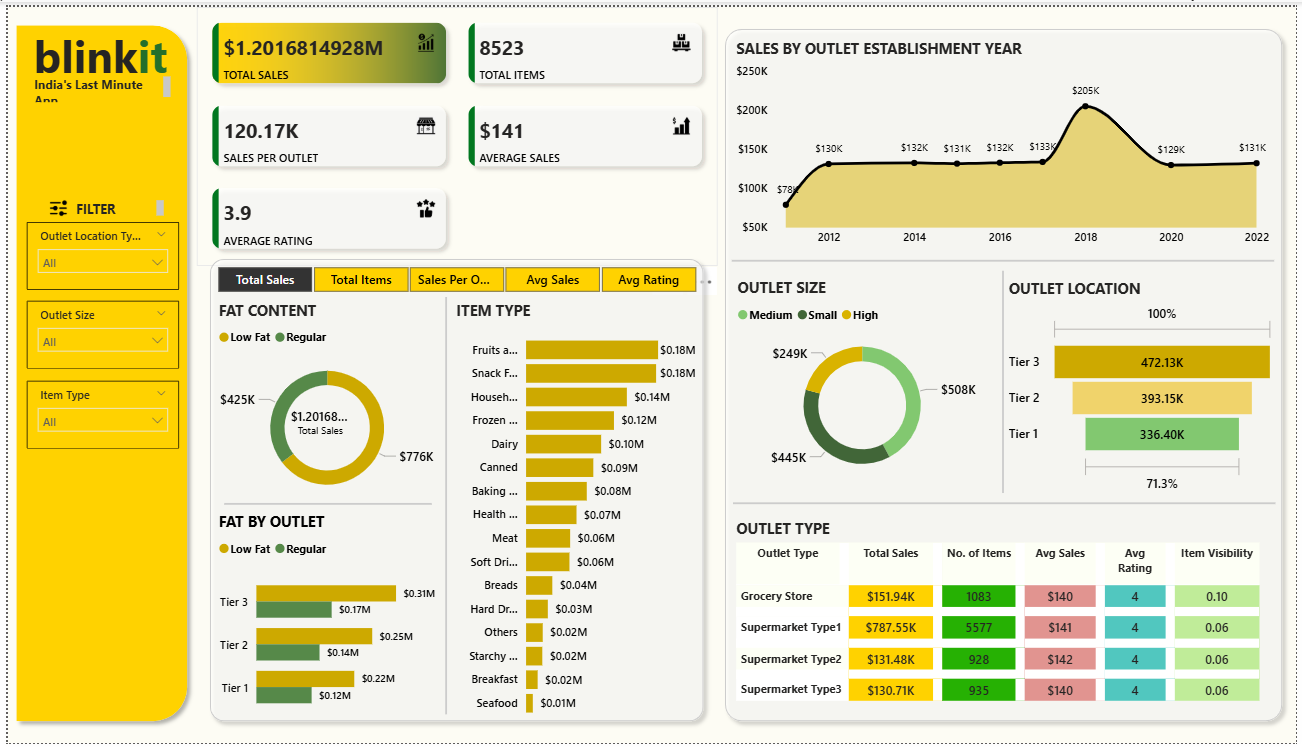

This screenshot's page, from the dashboard's own definition file:
{"tool":"powerbi","page":{"name":"DASHBOARD","canvas":[1400,800],"ordinal":0},"visuals":[{"type":"shape","box":[0,10.9,203.8,774.5],"z":0},{"type":"textbox","box":[23.1,14.9,180.7,85.6],"z":1000},{"type":"textbox","box":[23.1,70.7,159,38],"z":2000},{"type":"cardVisual","fields":{"Data":["BlinkIT Grocery Data.Total Sales","BlinkIT Grocery Data.No. of Items","BlinkIT Grocery Data.Sales per Outlet","BlinkIT Grocery Data.Avg Sales","BlinkIT Grocery Data.Avg Rating"]},"box":[205.2,0,566.6,281.3],"z":3000},{"type":"shape","box":[210.6,264.9,554.4,520.4],"z":4000},{"type":"shape","box":[770.4,14.9,623.6,770.4],"z":5000},{"type":"pieChart","title":"FAT CONTENT","fields":{"Y":["BlinkIT Grocery Data.Total Sales"],"Category":["BlinkIT Grocery Data.Item Fat Content"]},"box":[224.2,317.9,245.9,229.6],"z":6000},{"type":"slicer","fields":{"Values":["Metrics.Metrics"]},"box":[202.4,275.8,569.3,39.4],"z":7000},{"type":"cardVisual","fields":{"Data":["BlinkIT Grocery Data.Total Sales"]},"box":[289.4,418.5,100.5,54.3],"z":8000},{"type":"clusteredBarChart","title":"FAT BY OUTLET","fields":{"Y":["BlinkIT Grocery Data.Total Sales"],"Category":["BlinkIT Grocery Data.Outlet Location Type"],"Series":["BlinkIT Grocery Data.Item Fat Content"]},"box":[224.2,547.6,245.9,235.1],"z":9000},{"type":"shape","box":[235.1,525.8,225.5,28.5],"z":10000},{"type":"shape","box":[470.1,315.2,12.2,453.8],"z":11000},{"type":"barChart","title":"ITEM TYPE","fields":{"Y":["BlinkIT Grocery Data.Total Sales"],"Category":["BlinkIT Grocery Data.Item Type"]},"box":[482.3,317.9,270.4,464.7],"z":12000},{"type":"lineChart","title":"SALES BY OUTLET ESTABLISHMENT YEAR","fields":{"Y":["BlinkIT Grocery Data.Total Sales"],"Category":["BlinkIT Grocery Data.Outlet Establishment Year"]},"box":[786.7,34,589.7,235.1],"z":13000},{"type":"shape","box":[786.7,264.9,589.7,21.7],"z":14000},{"type":"shape","box":[788,528.5,589.7,21.7],"z":15000},{"type":"shape","box":[1069.3,286.7,24.5,241.8],"z":16000},{"type":"pieChart","title":"OUTLET SIZE","fields":{"Y":["BlinkIT Grocery Data.Total Sales"],"Category":["BlinkIT Grocery Data.Outlet Size"]},"box":[788,293.5,281.3,229.6],"z":17000},{"type":"funnel","title":"OUTLET LOCATION","fields":{"Y":["Sum(BlinkIT Grocery Data.Sales)"],"Category":["BlinkIT Grocery Data.Outlet Location Type"]},"box":[1082.9,294.8,298.9,239.1],"z":18000},{"type":"pivotTable","title":"OUTLET TYPE","fields":{"Values":["BlinkIT Grocery Data.Total Sales","BlinkIT Grocery Data.No. of Items","BlinkIT Grocery Data.Avg Sales","BlinkIT Grocery Data.Avg Rating","Avg(BlinkIT Grocery Data.Item Visibility)"],"Rows":["BlinkIT Grocery Data.Outlet Type"]},"box":[786.7,555.7,589.7,232.3],"z":19000},{"type":"slicer","fields":{"Values":["BlinkIT Grocery Data.Outlet Location Type"]},"box":[20.4,233.7,165.8,73.4],"z":20000},{"type":"slicer","fields":{"Values":["BlinkIT Grocery Data.Outlet Size"]},"box":[20.4,319.3,165.8,73.4],"z":21000},{"type":"slicer","fields":{"Values":["BlinkIT Grocery Data.Item Type"]},"box":[20.4,406.3,165.8,73.4],"z":22000},{"type":"textbox","box":[69.3,205.2,104.6,28.5],"z":23000},{"type":"image","box":[27.2,203.8,55.7,29.9],"z":24000}]}

Visuals, with their boxes in screenshot pixels (x1, y1, x2, y2), scaled from the page's 1400x800 canvas onto the 1302x747 screenshot:
shape: region(0, 10, 190, 733)
textbox: region(21, 14, 190, 94)
textbox: region(21, 66, 169, 101)
cardVisual - BlinkIT Grocery Data.Total Sales x BlinkIT Grocery Data.No. of Items: region(191, 0, 718, 263)
shape: region(196, 247, 711, 733)
shape: region(716, 14, 1296, 733)
"FAT CONTENT" pieChart: region(209, 297, 437, 511)
slicer - Metrics.Metrics: region(188, 258, 718, 294)
cardVisual - BlinkIT Grocery Data.Total Sales: region(269, 391, 363, 441)
"FAT BY OUTLET" clusteredBarChart: region(209, 511, 437, 731)
shape: region(219, 491, 428, 518)
shape: region(437, 294, 449, 718)
"ITEM TYPE" barChart: region(449, 297, 700, 731)
"SALES BY OUTLET ESTABLISHMENT YEAR" lineChart: region(732, 32, 1280, 251)
shape: region(732, 247, 1280, 268)
shape: region(733, 493, 1281, 514)
shape: region(994, 268, 1017, 493)
"OUTLET SIZE" pieChart: region(733, 274, 994, 488)
"OUTLET LOCATION" funnel: region(1007, 275, 1285, 499)
"OUTLET TYPE" pivotTable: region(732, 519, 1280, 736)
slicer - BlinkIT Grocery Data.Outlet Location Type: region(19, 218, 173, 287)
slicer - BlinkIT Grocery Data.Outlet Size: region(19, 298, 173, 367)
slicer - BlinkIT Grocery Data.Item Type: region(19, 379, 173, 448)
textbox: region(64, 192, 162, 218)
image: region(25, 190, 77, 218)
